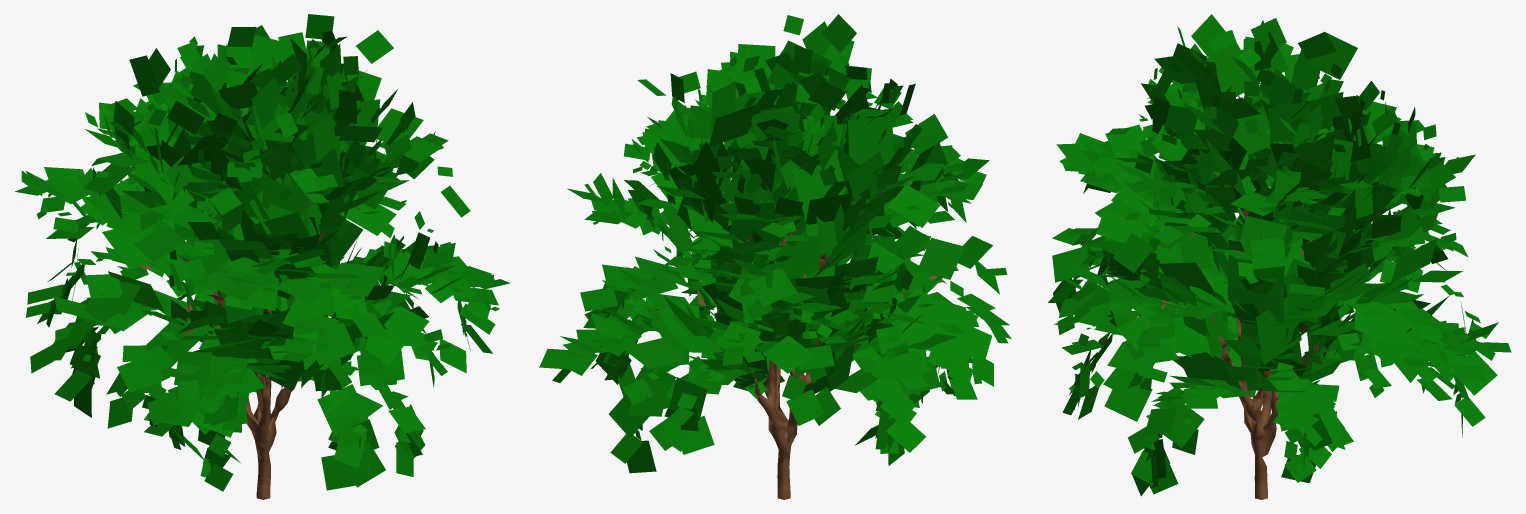
The picture shows the model from 3 angles, left to right: view 1: azimuth 30°, elevation 25°; view 2: azimuth 150°, elevation 25°; view 3: azimuth 270°, elevation 25°; orthographic projection. The views are drawn at different scales.
Visible parts, largest first — view 1: leaves; view 2: leaves; view 3: leaves.
Boxes of the visible parts, bbox=[...] form: leaves: bbox=[15, 14, 509, 499]; leaves: bbox=[539, 14, 1011, 499]; leaves: bbox=[1048, 14, 1511, 499].
Bounding box in the file's own units: 599 × 676 × 613.
